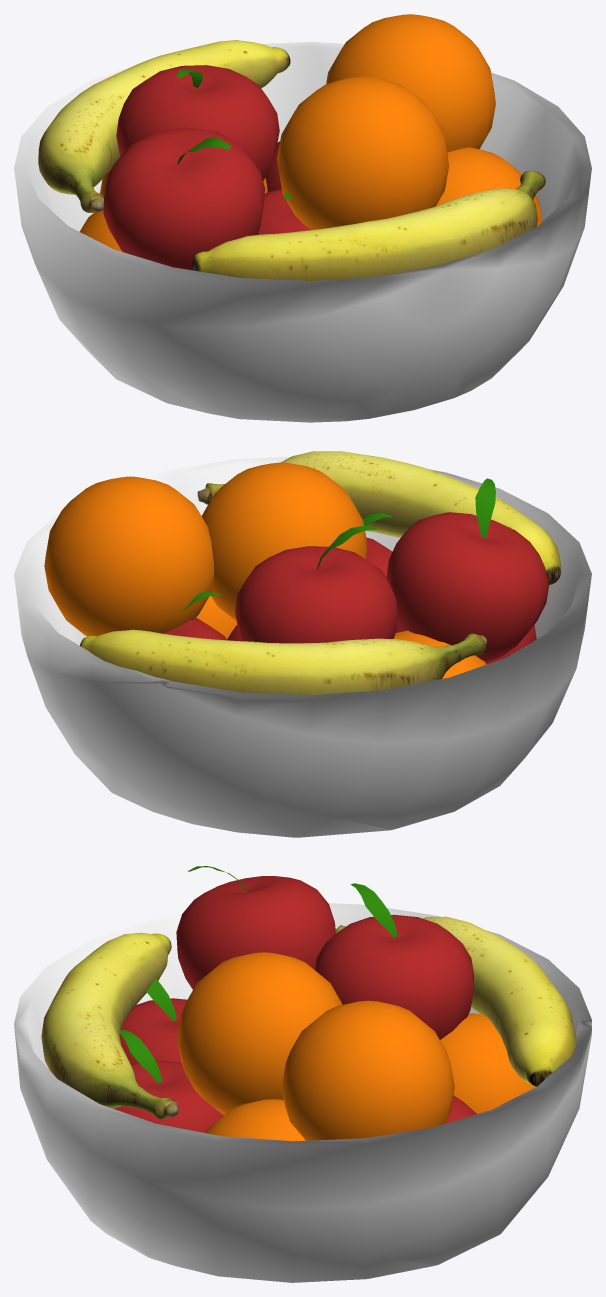
Rendered from fruit_bowl1.fbx.
The picture shows the model from 3 angles, top to bottom: view 1: azimuth 30°, elevation 25°; view 2: azimuth 150°, elevation 25°; view 3: azimuth 270°, elevation 25°; orthographic projection.
Visible parts, largest first — view 1: ske8_1, Group1, SimpleSphere02_4, apple_half16, SimpleSphere02_5, apple_half10, apple_half9, apple_half15, SimpleSphere02_3, apple_half6, SimpleSphere02_1; view 2: ske8_1, Group1, SimpleSphere02_5, apple_half15, SimpleSphere02_4, apple_half10, apple_half9, apple_half16, SimpleSphere02_1, leaf7, SimpleSphere02_3, apple_half8 (+1 smaller); view 3: ske8_1, Group1, SimpleSphere02_5, SimpleSphere02_4, apple_half9, apple_half15, SimpleSphere02_2, apple_half16, SimpleSphere02_3, apple_half3, apple_half1, apple_half10 (+5 smaller).
Boxes of the visible parts, x1,y1,x2,y2 form: ske8_1: [14, 41, 591, 422]; Group1: [38, 40, 545, 280]; SimpleSphere02_4: [277, 76, 448, 229]; apple_half16: [109, 147, 264, 270]; SimpleSphere02_5: [326, 14, 495, 152]; apple_half10: [116, 68, 235, 156]; apple_half9: [171, 65, 279, 181]; apple_half15: [103, 127, 253, 238]; SimpleSphere02_3: [436, 147, 542, 226]; apple_half6: [257, 189, 312, 234]; SimpleSphere02_1: [79, 210, 122, 251]; ske8_1: [14, 457, 591, 837]; Group1: [80, 451, 561, 694]; SimpleSphere02_5: [44, 476, 214, 636]; apple_half15: [386, 513, 529, 661]; SimpleSphere02_4: [201, 462, 367, 621]; apple_half10: [276, 549, 398, 643]; apple_half9: [235, 546, 342, 642]; apple_half16: [442, 512, 549, 662]; SimpleSphere02_1: [393, 630, 486, 678]; leaf7: [475, 478, 495, 537]; SimpleSphere02_3: [196, 596, 237, 638]; apple_half8: [163, 618, 226, 640]; ske8_1: [14, 903, 591, 1282]; Group1: [41, 916, 575, 1119]; SimpleSphere02_5: [281, 1000, 454, 1140]; SimpleSphere02_4: [177, 952, 342, 1114]; apple_half9: [315, 932, 473, 1039]; apple_half15: [236, 876, 335, 969]; SimpleSphere02_2: [440, 1013, 535, 1113]; apple_half16: [176, 877, 253, 989]; SimpleSphere02_3: [205, 1099, 305, 1141]; apple_half3: [113, 1078, 223, 1132]; apple_half1: [120, 1015, 181, 1063]; apple_half10: [314, 915, 473, 981].
Bounding box in the file's own units: 9.84 × 4.95 × 9.82.
